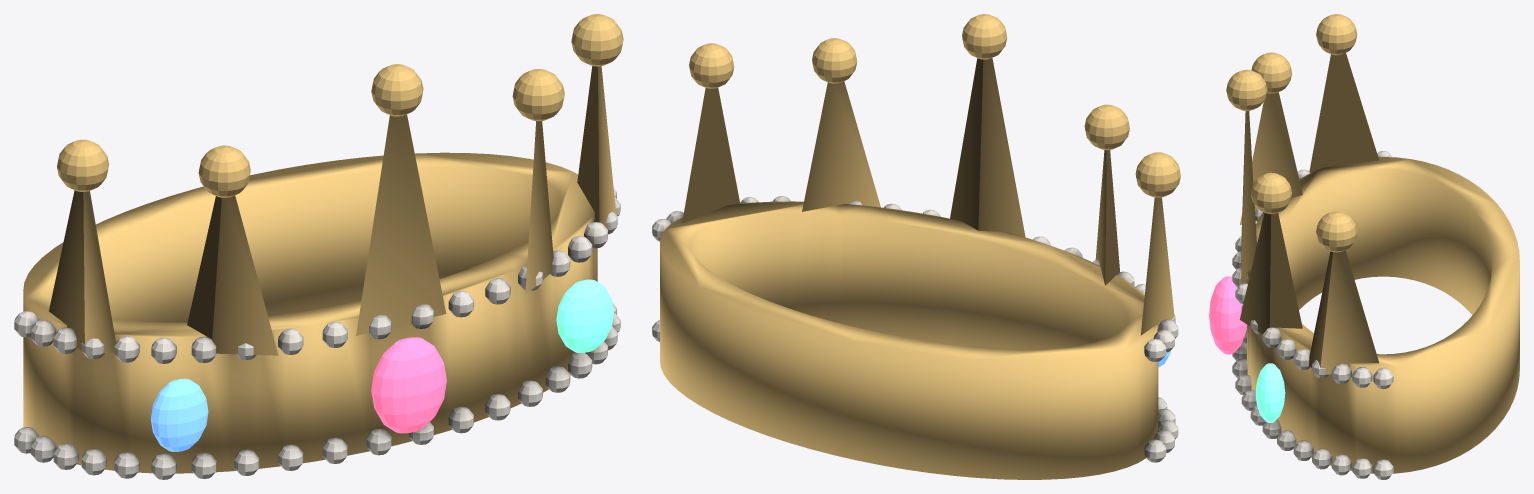
File: emb_coroa.glb
3 views of the same model, side by side, from view 1: azimuth 30°, elevation 25°; view 2: azimuth 150°, elevation 25°; view 3: azimuth 270°, elevation 25° (orthographic). The views are drawn at different scales.
Visible parts, largest first — view 1: emb_coroa; view 2: emb_coroa; view 3: emb_coroa.
Boxes of the visible parts, x1,y1,x2,y2 form: emb_coroa: [14, 14, 623, 479]; emb_coroa: [652, 14, 1180, 479]; emb_coroa: [1209, 14, 1519, 479].
Size of the model in its own units: 0.0903 by 0.0558 by 0.0526.
